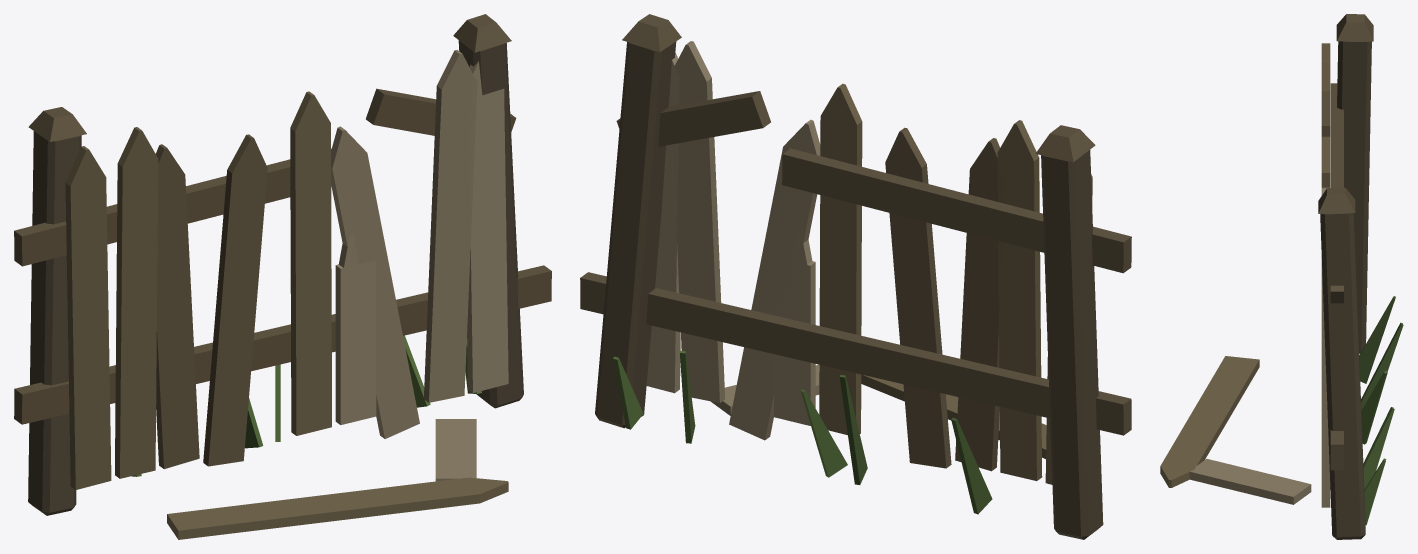
The model's file is cerca_madeira.glb.
The picture shows the model from 3 angles, left to right: view 1: azimuth 30°, elevation 25°; view 2: azimuth 150°, elevation 25°; view 3: azimuth 270°, elevation 25°; orthographic projection. The views are drawn at different scales.
Visible parts, largest first — view 1: cerca_madeira.001; view 2: cerca_madeira.001; view 3: cerca_madeira.001.
Boxes of the visible parts, x1,y1,x2,y2 form: cerca_madeira.001: (14,14,551,539); cerca_madeira.001: (580,14,1131,539); cerca_madeira.001: (1160,14,1403,539).
Bounding box in the file's own units: 1.56 × 1.1 × 0.725.
